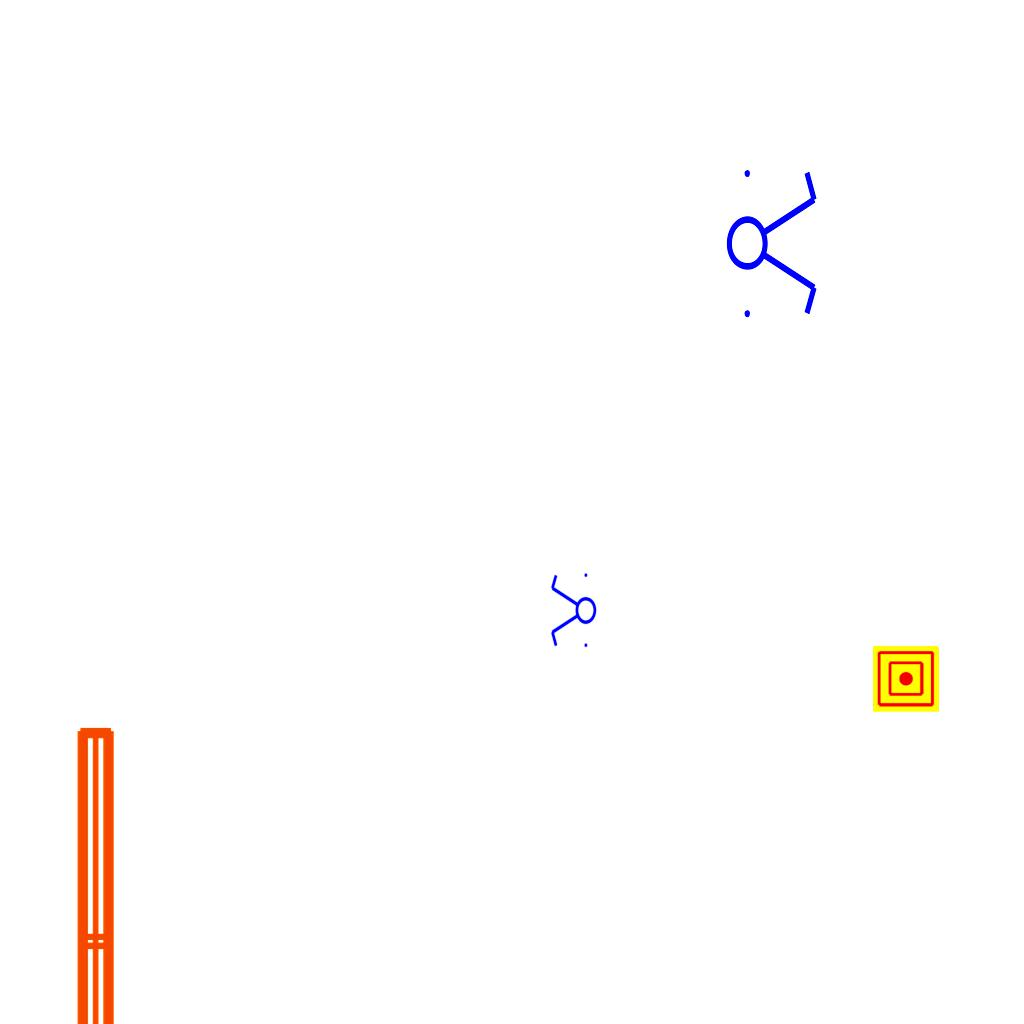Ambulanz_Pendelleuchte_LED: (65, 717, 177, 1024)
NAM-Nichtautomatischer_Melder: (873, 646, 939, 712)
Serienschalter: (725, 158, 821, 326), (549, 569, 597, 653)
